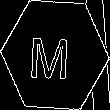M_N: (33, 29, 77, 81)
